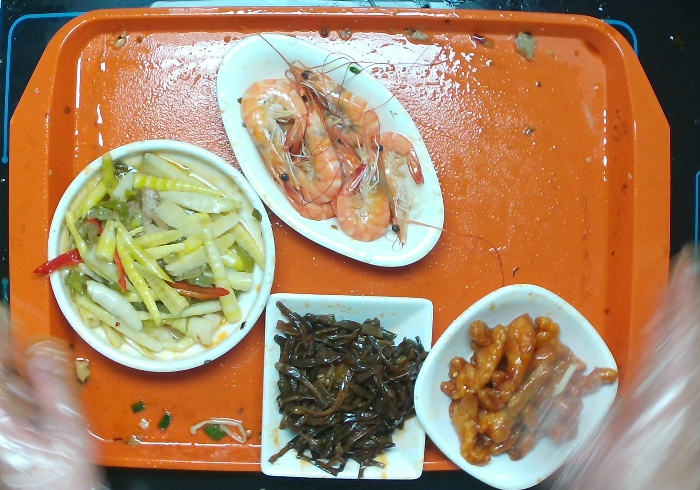HZYJPL-Si_Fang_Die: (257, 289, 434, 480)
HZYJPL-Si_Fang_Yuan_Die: (412, 281, 620, 490)
HZYJPL-Xiao_Yu_Die: (215, 32, 445, 269)
HZYJPL-Xiao_Yuan_Die: (45, 137, 277, 374)
